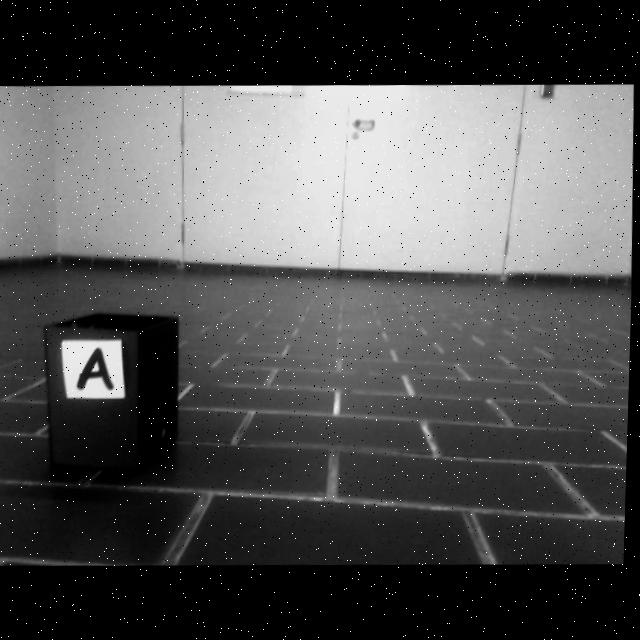A: (78, 346, 117, 391)
